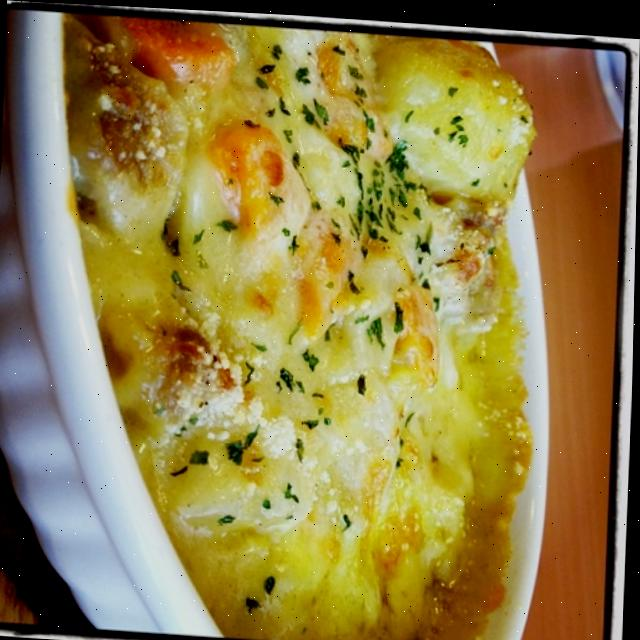米饭主食: (24, 27, 568, 640)
